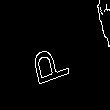P_W: (28, 44, 75, 94)
